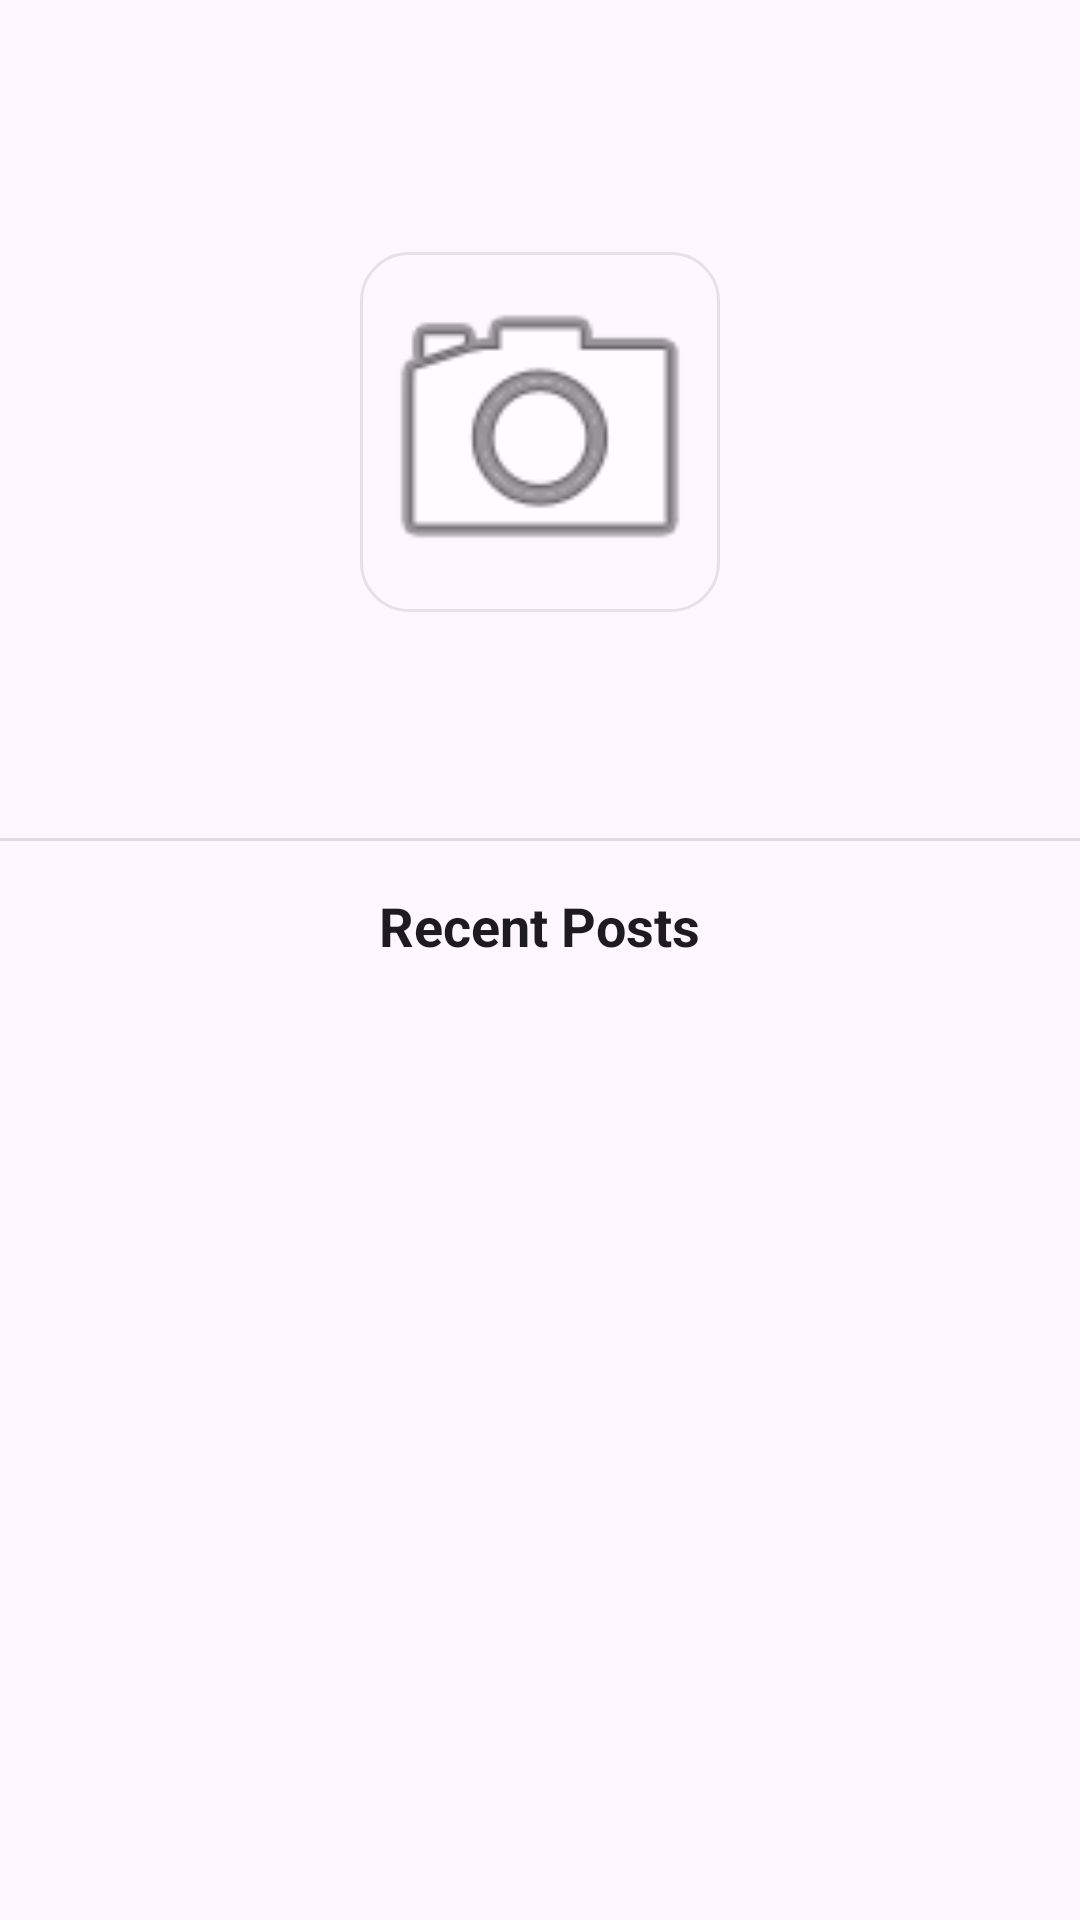

Icon click points for this 1080*1920 phone screenshot, format (x=x, y=y):
camera: (x=540, y=426)
